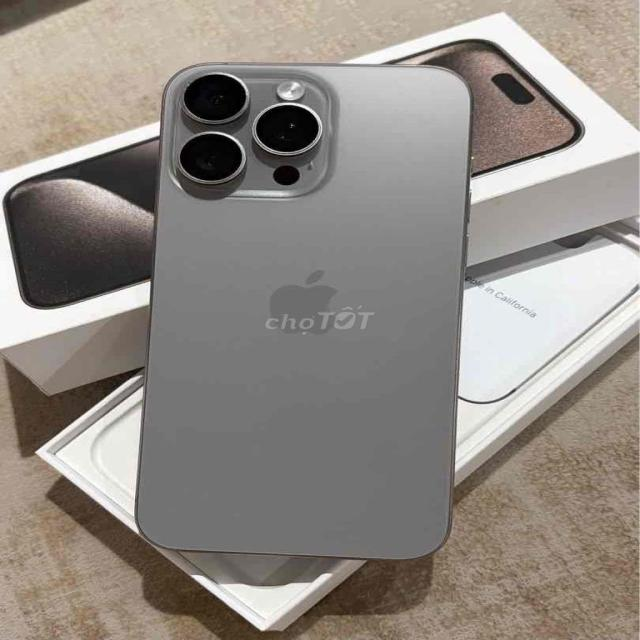gen_15: (133, 60, 479, 569)
